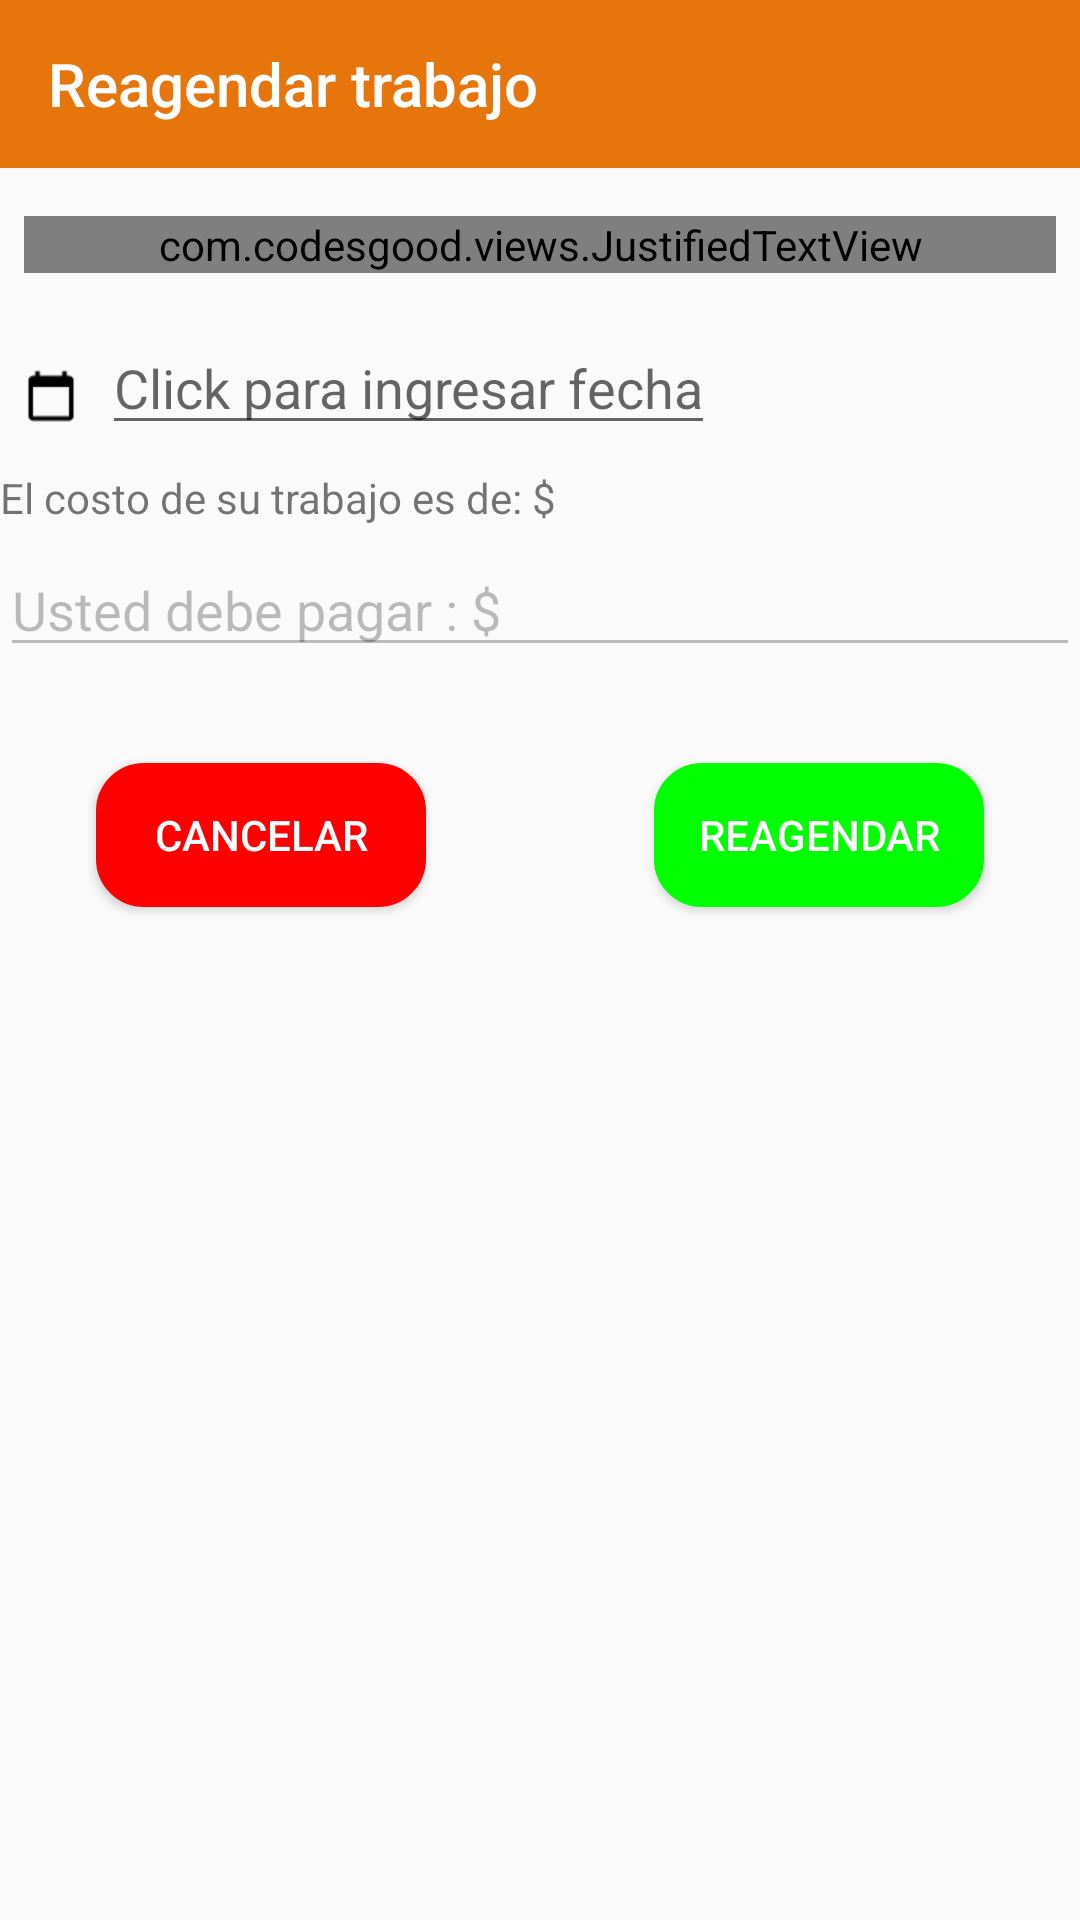

Screen size 1080x1920. Icon name, then its center in pixels as (x,y):
calendar: (51,396)
